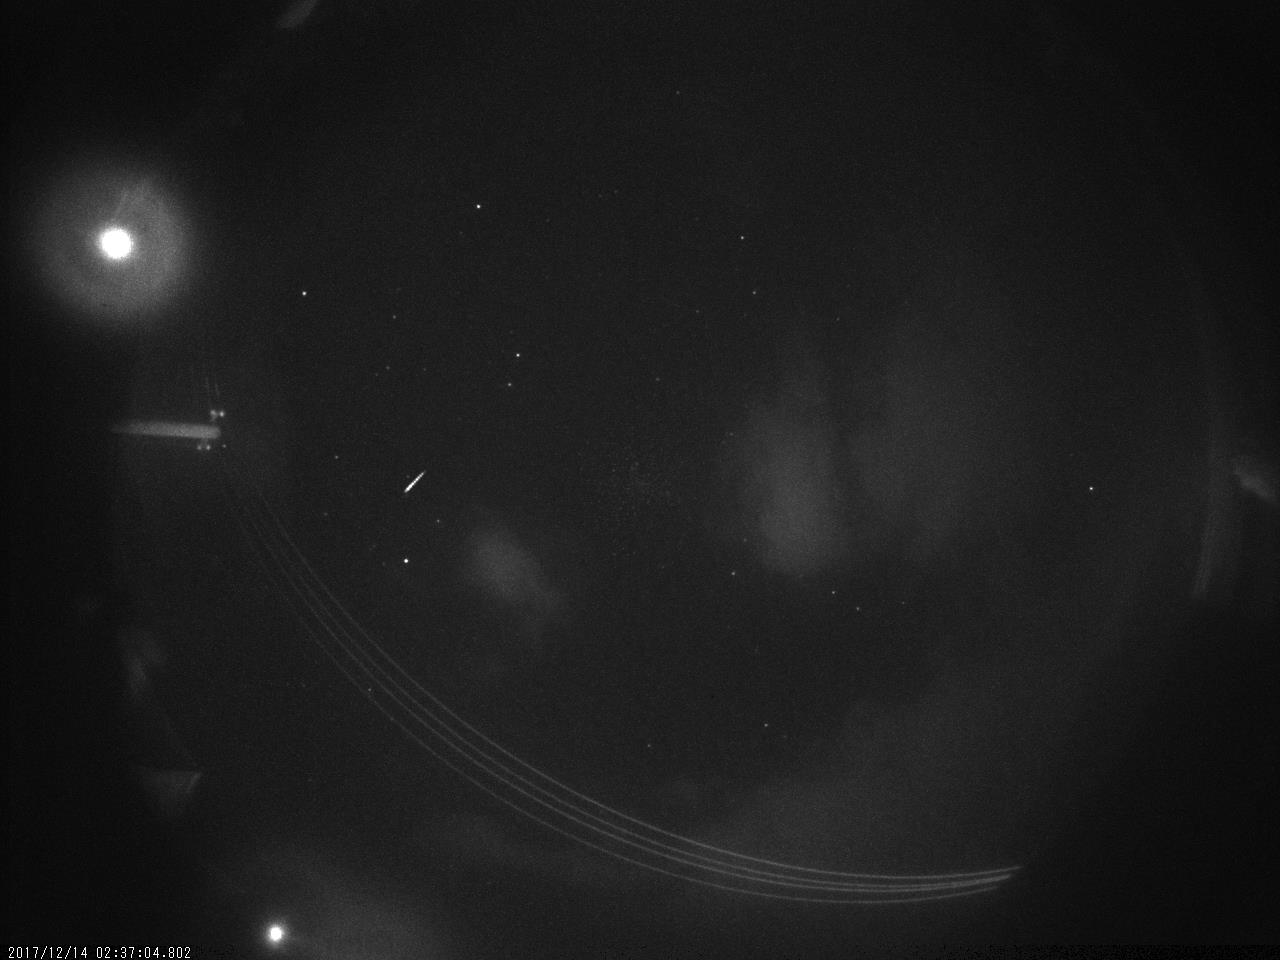meteor: (390, 467, 435, 500)
